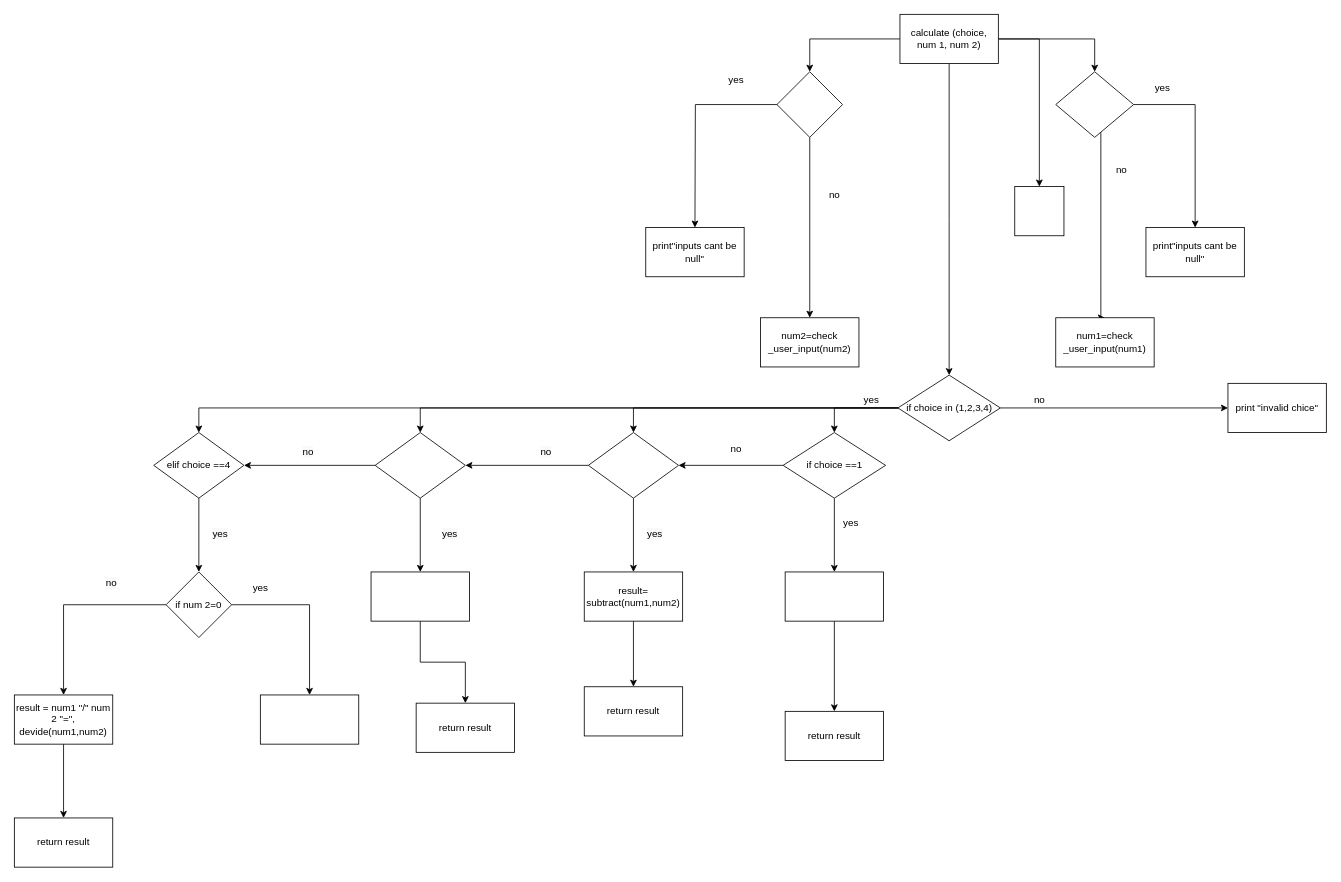
Some shapes in this 1341 by 882 pixel diagram are drawn without their labels. Here are the shapes that lost their labels. From the top down, the centre of each, then its label:
point (809, 104): if num2 ==null
point (1094, 104): if num1 ==null
point (1039, 211): result=0
point (419, 465): elif choice ==3
point (633, 465): elif choice ==2
point (419, 596): result = num1, "*" , num2 "=" multiply(num1,num2)
point (834, 596): result= add(num1,num2)
point (309, 719): print "you cant devide by zero"
